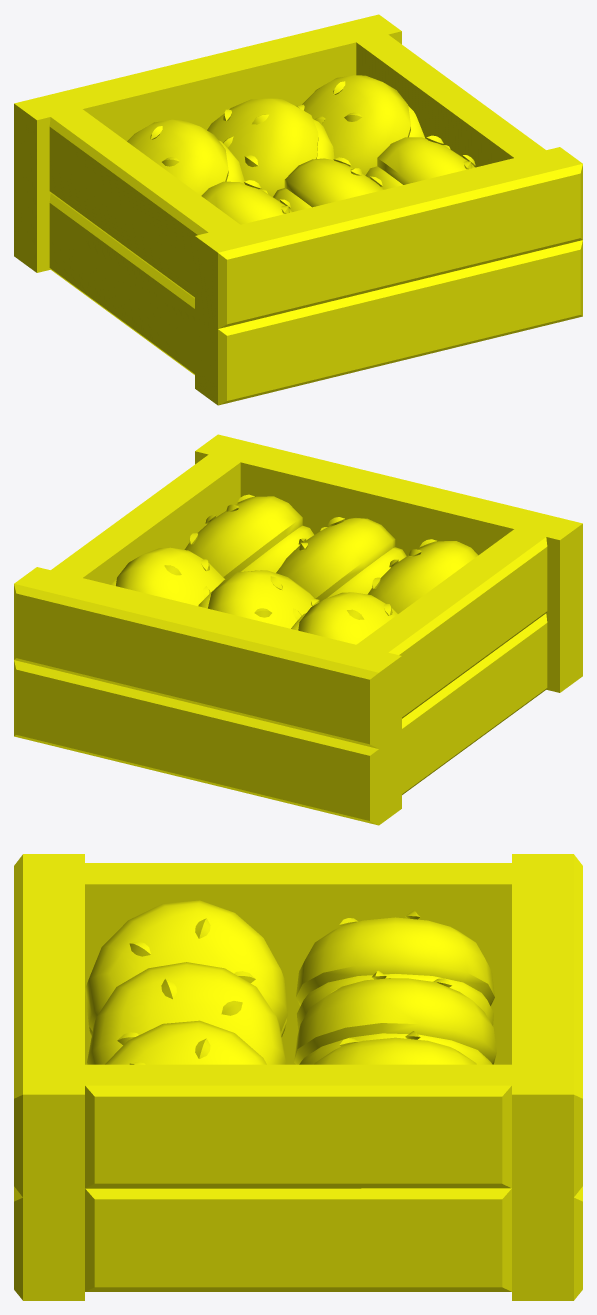
Rendered from crate_buns.gltf.
3 renders of one model, top to bottom at view 1: azimuth 30°, elevation 25°; view 2: azimuth 150°, elevation 25°; view 3: azimuth 270°, elevation 25°, orthographic. The views are drawn at different scales.
Parts seen in each view (by area): view 1: crate_buns; view 2: crate_buns; view 3: crate_buns.
Boxes of the visible parts, x1,y1,x2,y2 form: crate_buns: (14,14,582,405); crate_buns: (14,434,582,825); crate_buns: (14,854,582,1300).
Bounding box in the file's own units: 2 × 0.8024 × 2.
1 material, 1 textured.
